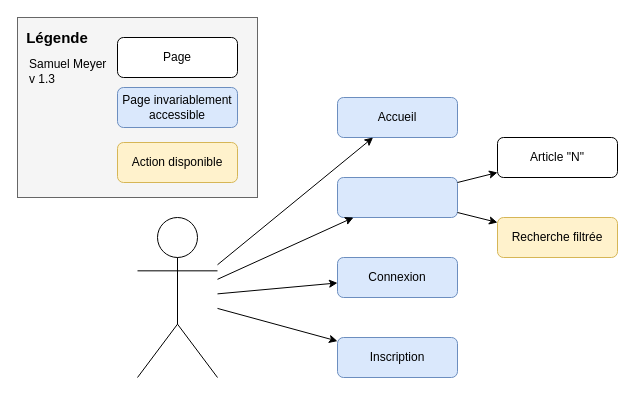
The diagram is 635 pixels wide and 416 high, and some of its shapes have lost their labels. The shapes that lost their labels are listed below. From the top down, each one's centre as x and y in pixels, then its label:
the point at 397,197: Œuvres
the point at 177,297: Utilisateur non authentifié
